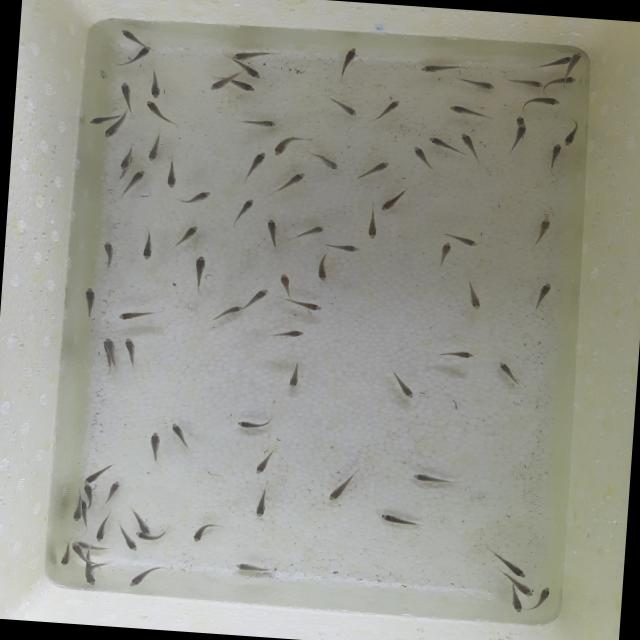fingerling: (228, 412, 278, 432), (308, 249, 338, 282), (354, 156, 392, 182), (498, 550, 530, 580), (166, 419, 192, 453), (326, 472, 354, 503), (462, 281, 488, 314), (376, 510, 418, 530), (260, 216, 284, 251), (494, 356, 520, 388), (324, 94, 358, 118), (360, 205, 381, 243), (448, 102, 490, 121), (130, 564, 159, 591), (190, 520, 220, 546), (270, 134, 300, 160), (502, 572, 534, 596), (529, 276, 553, 308), (284, 297, 326, 315), (78, 284, 100, 318), (379, 188, 410, 212), (277, 170, 310, 192), (446, 229, 484, 248), (406, 469, 451, 485), (190, 252, 208, 292), (143, 428, 164, 462), (534, 214, 556, 246), (230, 46, 274, 62), (414, 60, 458, 76), (456, 128, 481, 156), (436, 344, 474, 362), (81, 464, 112, 486), (138, 228, 158, 262), (336, 46, 356, 80), (408, 144, 434, 170), (176, 188, 213, 206), (115, 79, 136, 110), (208, 304, 244, 322), (506, 125, 530, 152), (326, 237, 364, 254), (308, 152, 340, 172), (173, 223, 202, 245), (56, 540, 77, 570), (392, 374, 416, 400), (232, 196, 255, 223), (376, 96, 404, 118), (285, 360, 304, 392), (426, 134, 458, 153), (122, 332, 142, 362), (143, 100, 170, 122), (124, 167, 145, 195), (255, 449, 275, 478), (236, 118, 277, 132), (104, 477, 123, 507), (233, 560, 273, 574), (246, 149, 266, 177), (528, 587, 550, 612), (276, 270, 298, 295), (255, 488, 272, 520), (100, 236, 116, 270), (164, 158, 180, 192), (460, 76, 494, 92), (131, 509, 151, 536), (116, 26, 146, 44), (522, 94, 560, 108), (146, 68, 163, 99), (436, 239, 454, 268), (128, 46, 154, 66), (116, 308, 153, 322), (294, 222, 326, 238), (148, 130, 164, 162), (534, 55, 566, 71), (562, 120, 580, 148), (548, 140, 566, 168), (85, 112, 116, 128), (116, 146, 135, 172), (234, 62, 264, 78), (230, 76, 256, 94), (132, 528, 160, 544), (509, 588, 526, 614), (76, 540, 111, 552), (268, 326, 306, 337), (508, 78, 544, 89), (566, 52, 582, 76), (81, 482, 96, 506), (70, 496, 83, 523), (70, 541, 86, 562), (101, 126, 122, 142), (250, 286, 268, 304), (98, 514, 108, 546), (83, 560, 95, 586), (79, 502, 92, 526), (105, 338, 117, 362), (550, 75, 576, 85), (512, 113, 530, 127), (208, 79, 228, 91)
